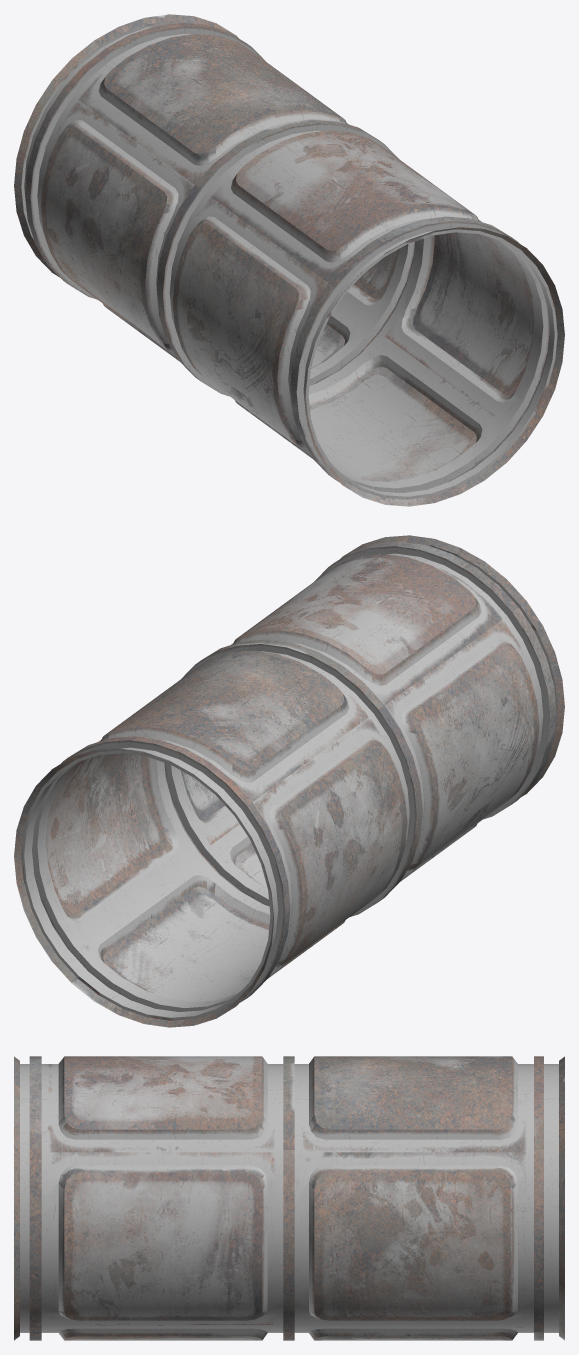
The model's file is Corridor_Straight.obj.
3 views of the same model, one above another, from view 1: azimuth 30°, elevation 25°; view 2: azimuth 150°, elevation 25°; view 3: azimuth 270°, elevation 25° (orthographic). The views are drawn at different scales.
Visible parts, largest first — view 1: Cylinder001; view 2: Cylinder001; view 3: Cylinder001.
Boxes of the visible parts, <box> form: Cylinder001: <box>14,14,564,506</box>; Cylinder001: <box>14,535,564,1027</box>; Cylinder001: <box>14,1056,564,1340</box>.
Size of the model in its own units: 10.64 by 10.65 by 20.45.
1 material, 1 textured.
